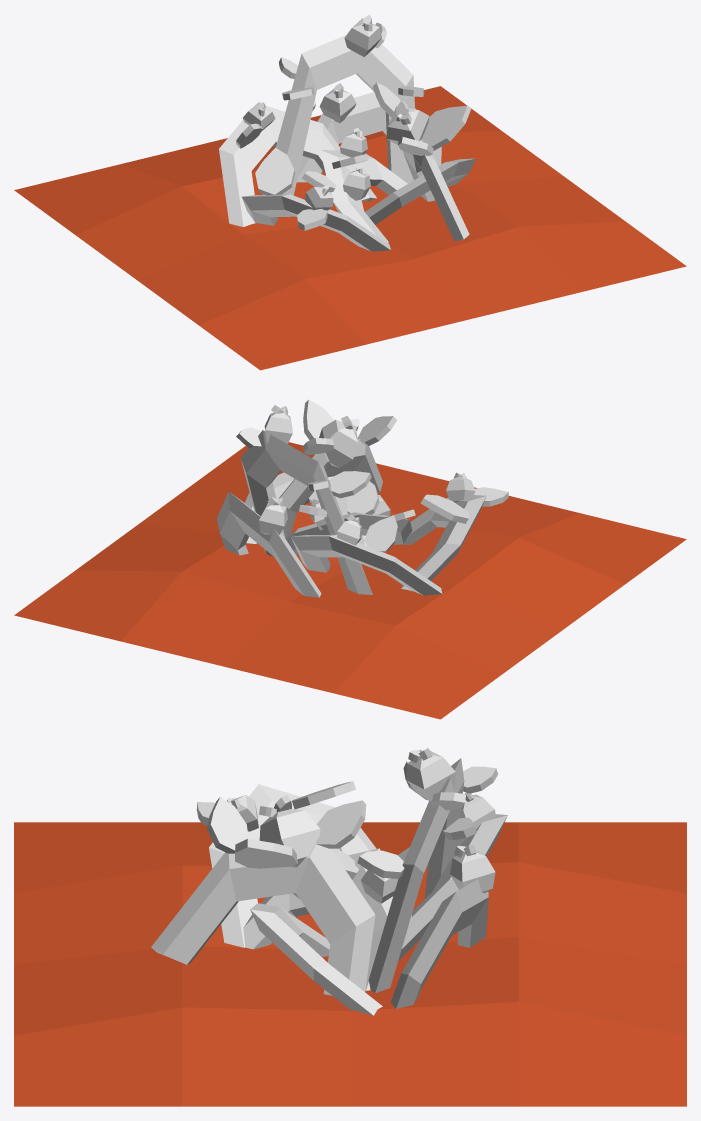
The model's file is berries_garden.fbx.
3 views of the same model, one above another, from view 1: azimuth 30°, elevation 25°; view 2: azimuth 150°, elevation 25°; view 3: azimuth 270°, elevation 25° (orthographic). The views are drawn at different scales.
Visible parts, largest first — view 1: ground, Torus; view 2: ground, Torus; view 3: ground, Torus.
Part boxes in pixels (x1,y1,x2,y2): ground: (14, 86, 686, 370); Torus: (219, 14, 475, 251); ground: (14, 442, 686, 719); Torus: (217, 399, 508, 597); ground: (14, 822, 686, 1106); Torus: (151, 748, 507, 1015).
Bounding box in the file's own units: 200 × 96.14 × 200.
